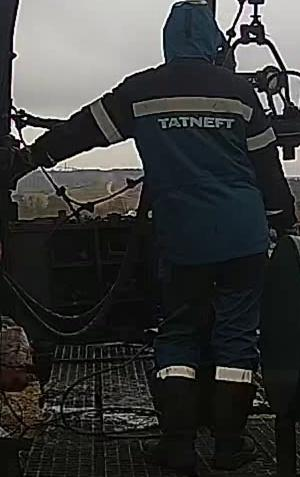gloves: (4, 140, 54, 189)
vest: (98, 60, 273, 266)
